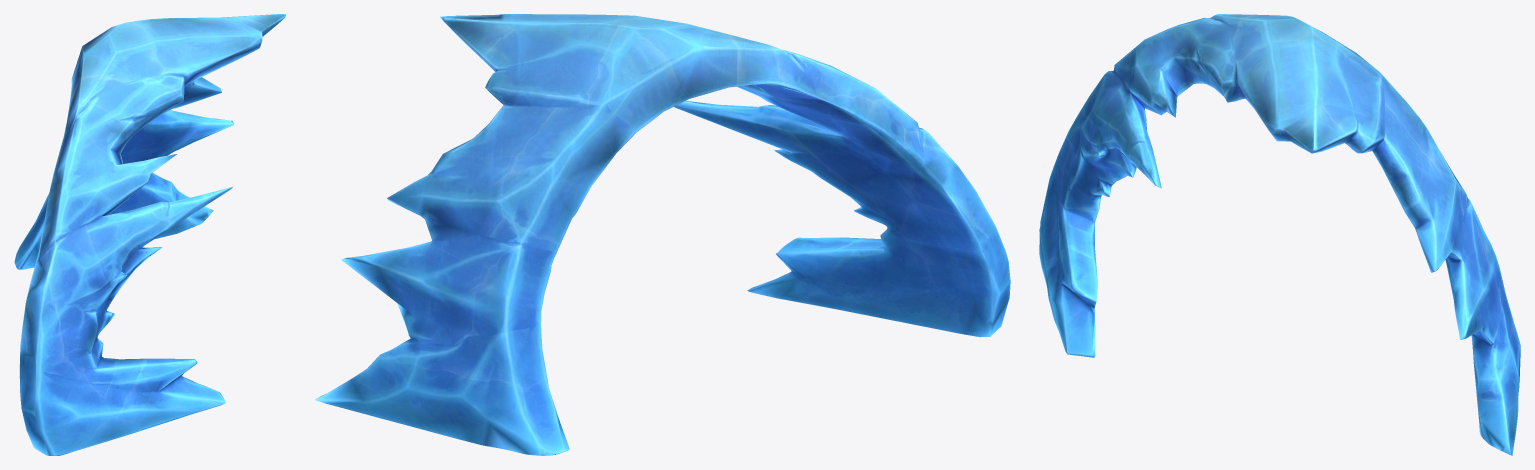
Rendered from glacia_icesculpture_c_far.glb.
The picture shows the model from 3 angles, left to right: view 1: azimuth 30°, elevation 25°; view 2: azimuth 150°, elevation 25°; view 3: azimuth 270°, elevation 25°; orthographic projection. The views are drawn at different scales.
Parts seen in each view (by area): view 1: SM_GLCA_STL_IceSculpture_01C; view 2: SM_GLCA_STL_IceSculpture_01C; view 3: SM_GLCA_STL_IceSculpture_01C.
Part boxes in pixels (<box>): SM_GLCA_STL_IceSculpture_01C: <box>14,14,286,455</box>; SM_GLCA_STL_IceSculpture_01C: <box>315,14,1010,455</box>; SM_GLCA_STL_IceSculpture_01C: <box>1039,14,1520,455</box>.
Bounding box in the file's own units: 26.51 × 19.43 × 25.62.
Materials: 1 (1 with a texture image).
